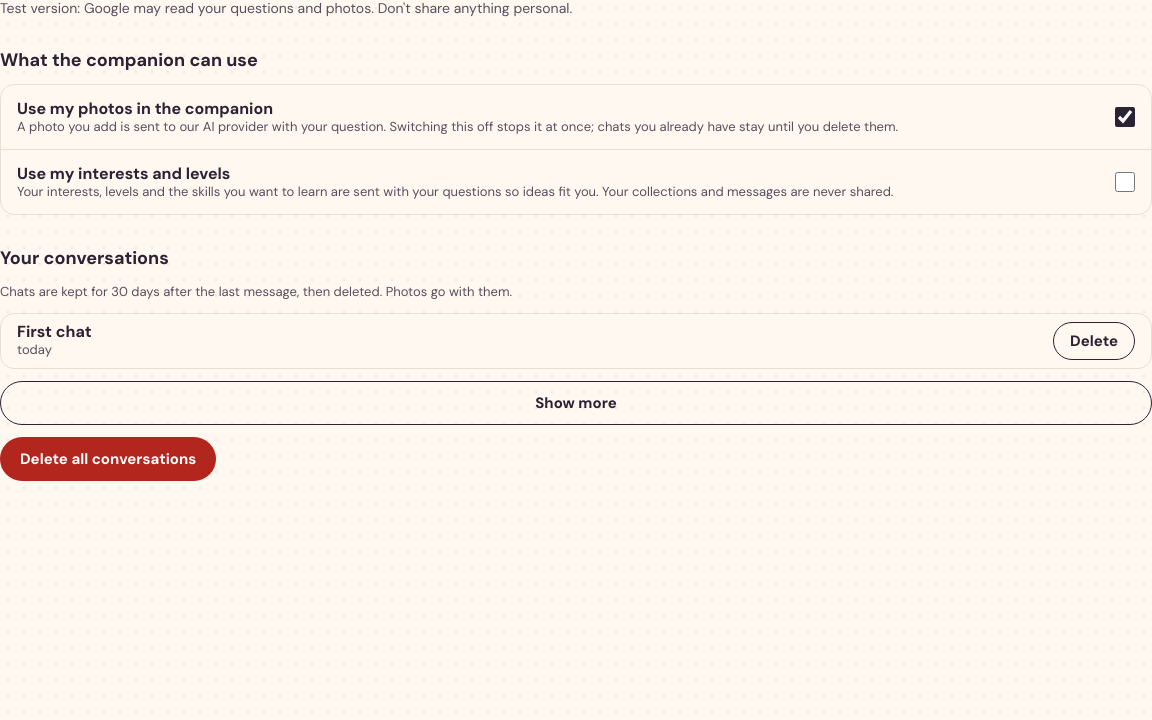
Test: AiPrivacyForm › keeps the chat when deleting fails, and loads more on request
Expected: the text "Test version: Google may read" is shown, x1=0 y1=0 x2=572 y2=17
Step 1. Click the button with aria-label "Delete chat: First chat" → (1094, 341), box x1=1053 y1=322 x2=1135 y2=360
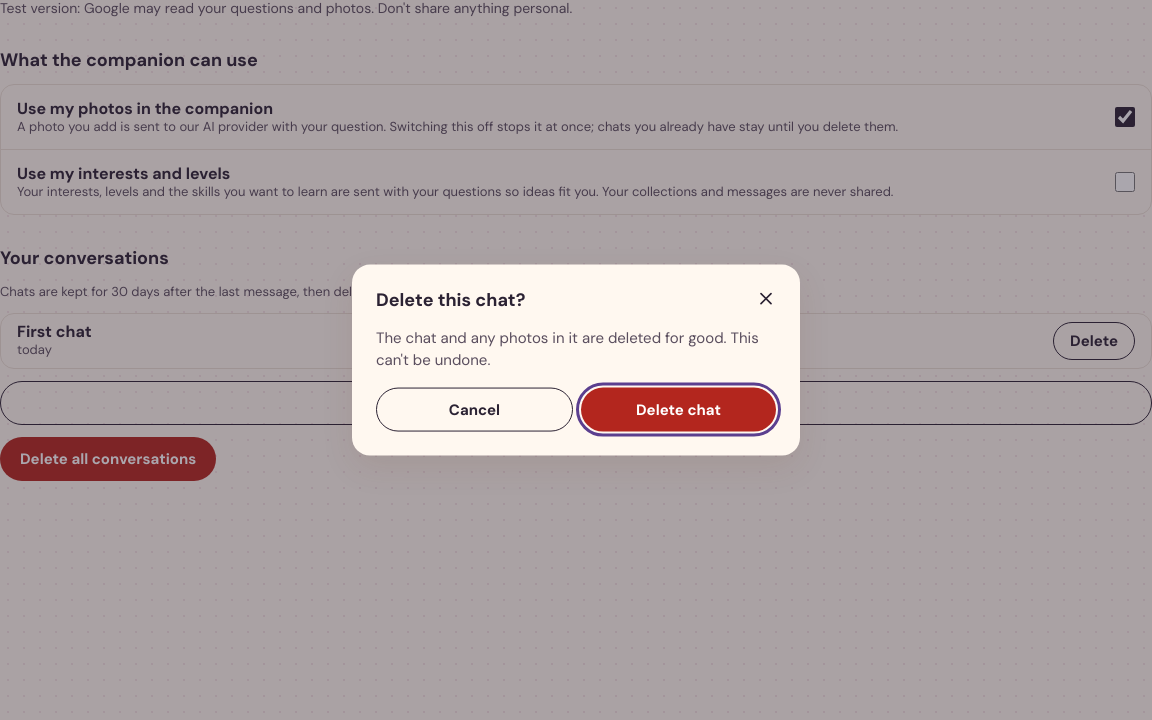
Step 2. Click the button "Delete chat" → (678, 409), box x1=581 y1=387 x2=776 y2=431
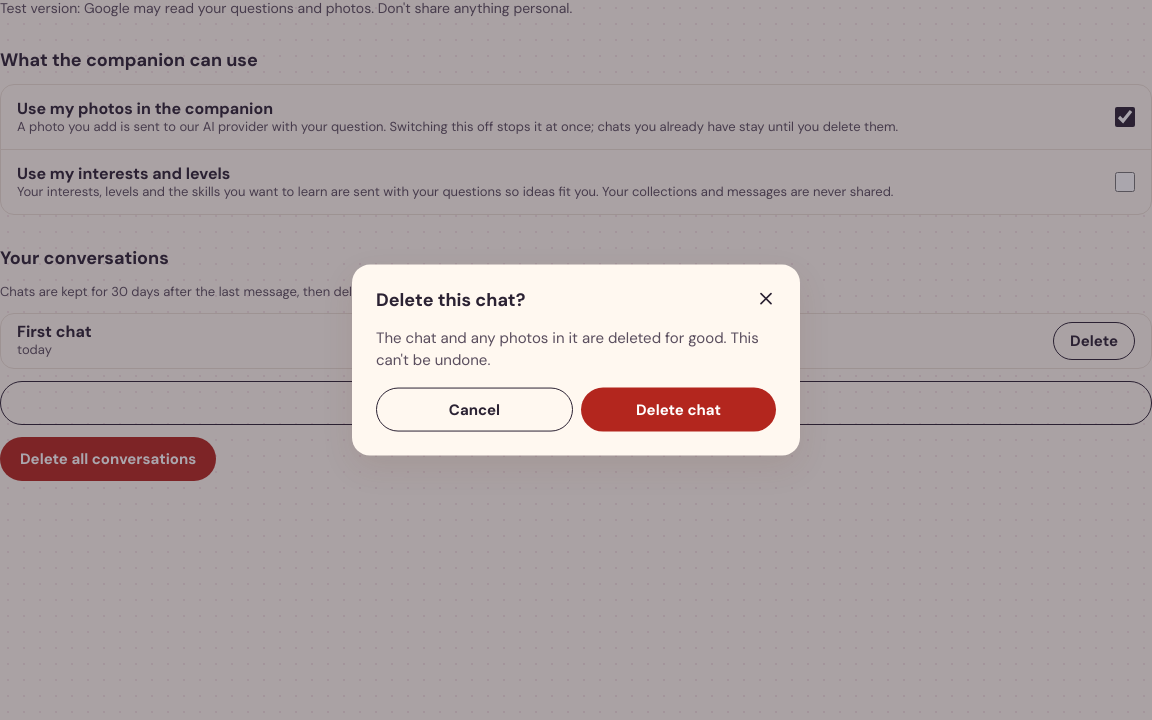
Now the button "Delete chat" is enabled, box x1=581 y1=387 x2=776 y2=431
Step 3. Click the button "Cancel" → (474, 409), box x1=376 y1=387 x2=573 y2=431
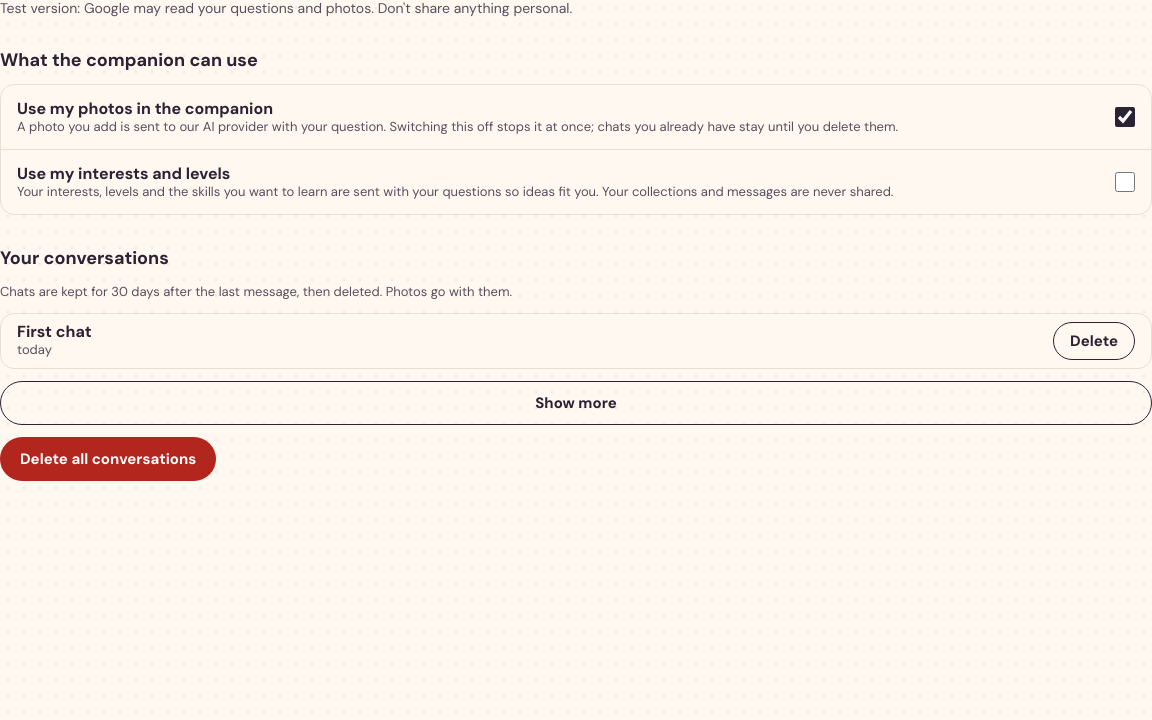
Expected: the text "First chat" is shown, x1=17 y1=321 x2=92 y2=342
Step 4. Click the button "Show more" → (576, 403), box x1=0 y1=381 x2=1151 y2=425
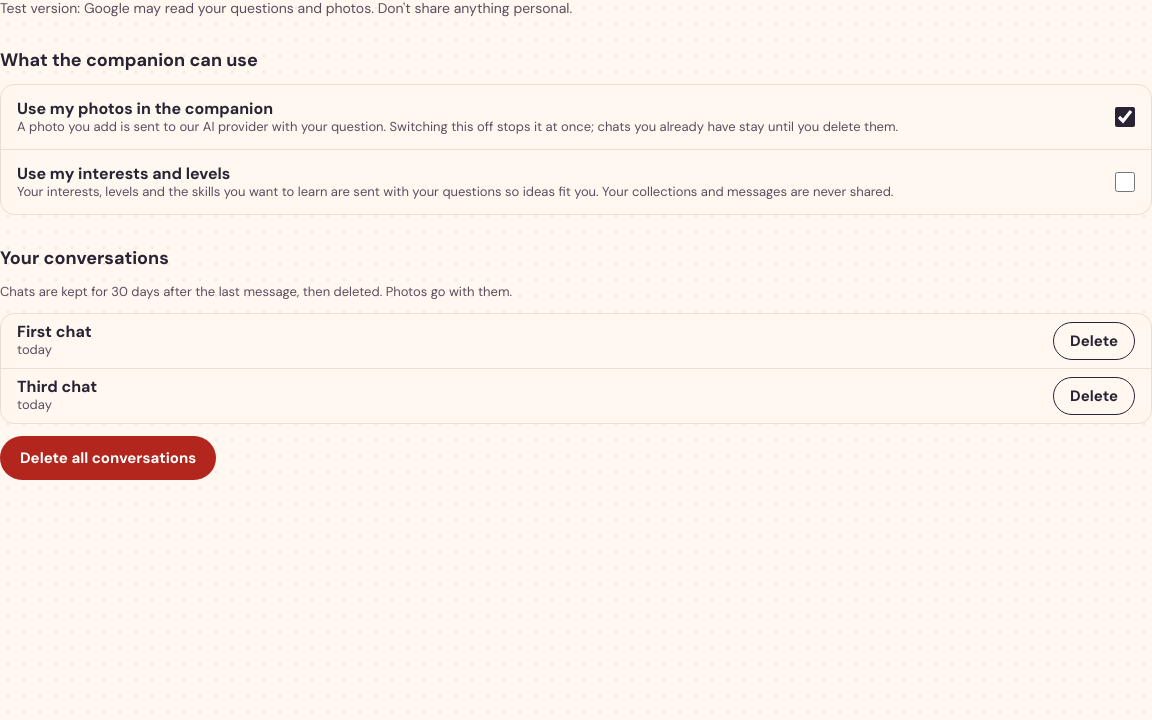
Now the text "Third chat" is shown, box x1=17 y1=376 x2=97 y2=397
